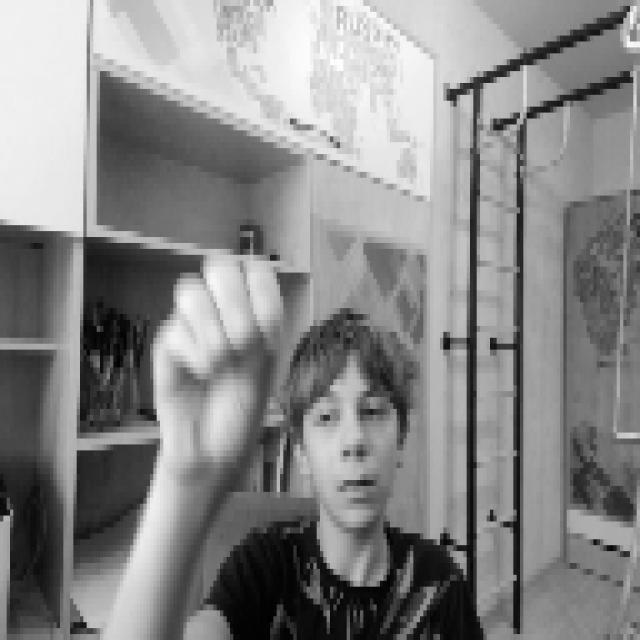left_click: (150, 243, 283, 486)
